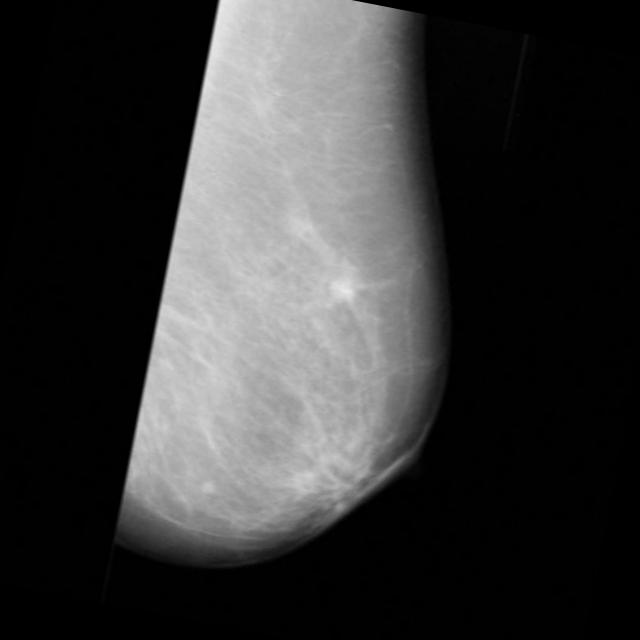ARCH: (280, 227, 408, 356)
